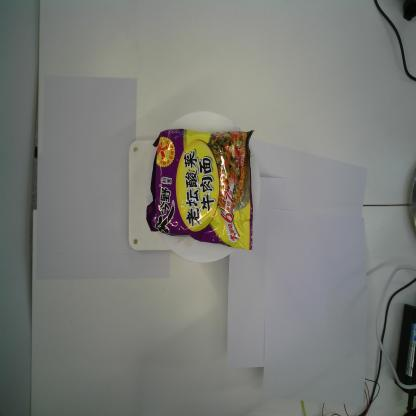Instant Noodles: (145, 127, 255, 250)
